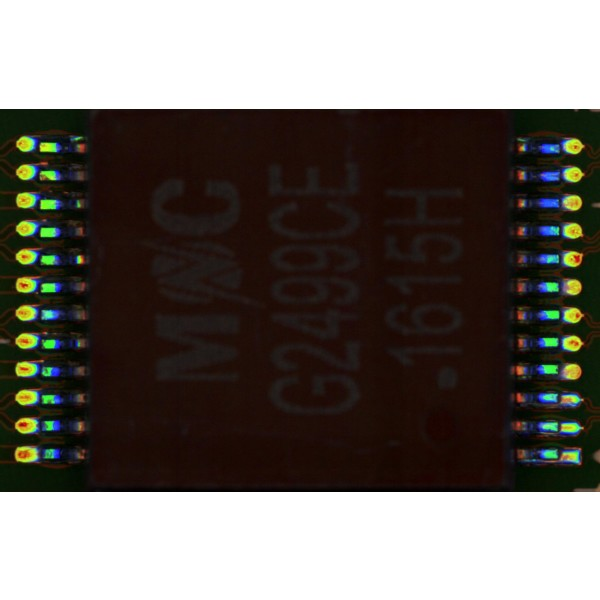Bad_podu: (552, 452, 572, 460), (553, 424, 572, 431), (551, 395, 569, 402)
Bad_qiaojiao: (523, 459, 559, 464)
